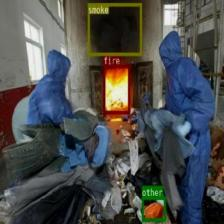fire: (103, 64, 130, 113)
smoke: (88, 3, 142, 55)
